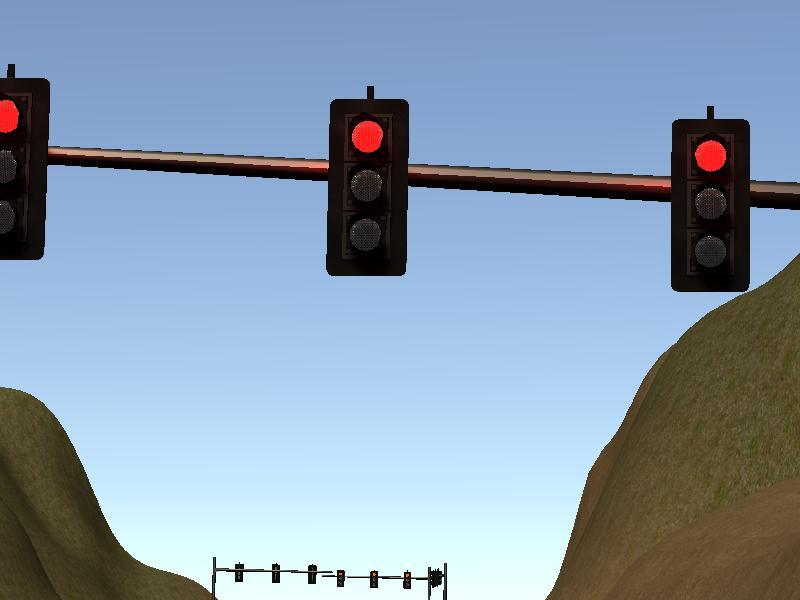Red: (672, 117, 750, 292), (331, 99, 406, 276), (1, 78, 47, 259)
